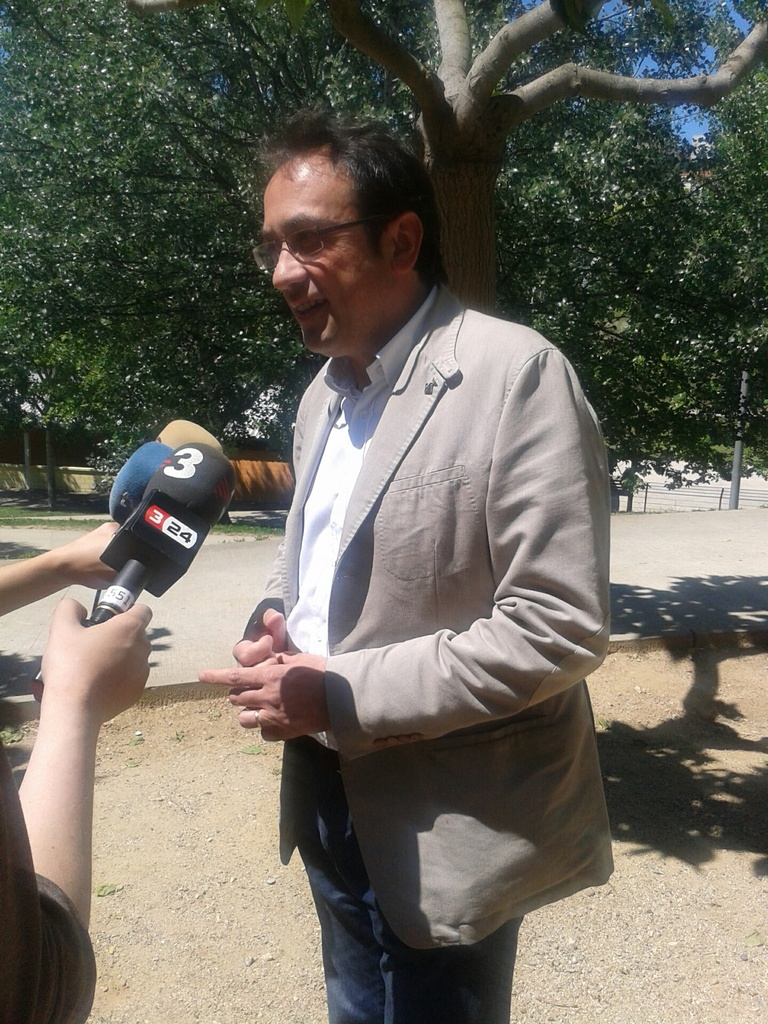Tree: (0, 0, 419, 490), (323, 0, 767, 305)
